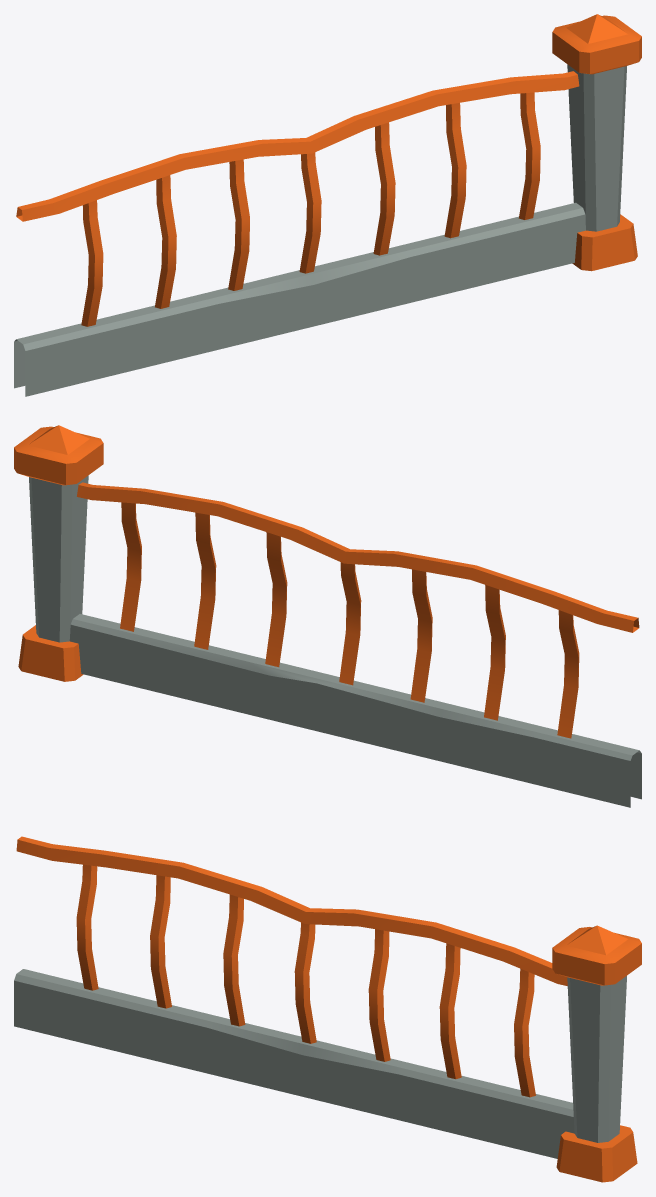
File: Build_Fence03.FBX
3 views of the same model, one above another, from view 1: azimuth 30°, elevation 25°; view 2: azimuth 150°, elevation 25°; view 3: azimuth 330°, elevation 25° (orthographic).
Visible parts, largest first — view 1: Build_Fence03; view 2: Build_Fence03; view 3: Build_Fence03.
Part boxes in pixels (x1,y1,x2,y2): Build_Fence03: (14,14,641,396); Build_Fence03: (14,425,641,807); Build_Fence03: (14,836,641,1182).
Size of the model in its own units: 316 by 119 by 31.17.
1 material, 1 textured.
